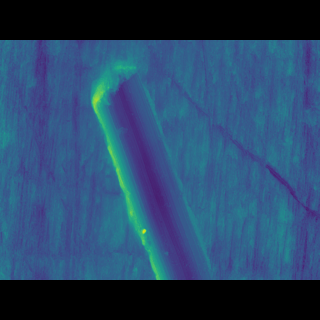Loch: (89, 82, 215, 250)
